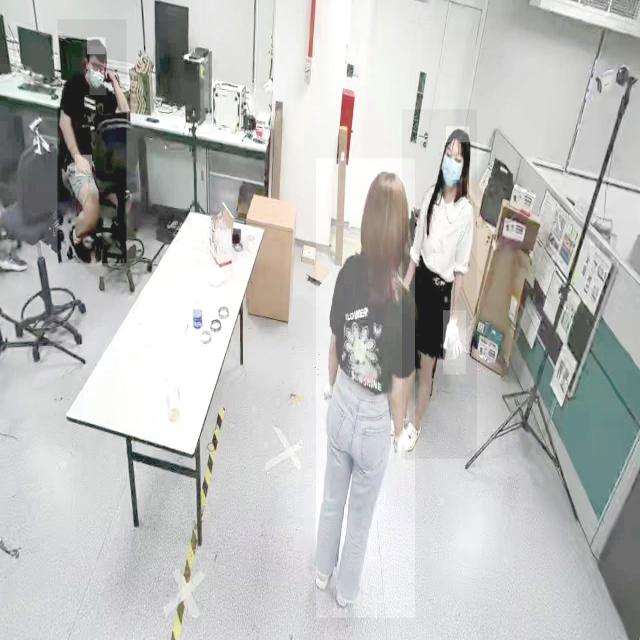face_mask: (442, 141, 462, 202), (89, 46, 107, 96)
hand_glove: (443, 310, 467, 375), (392, 426, 412, 462)
hand_noglove: (75, 155, 93, 177), (104, 68, 115, 82)
head_nohelmet: (364, 170, 406, 201), (446, 126, 470, 143), (87, 37, 106, 55)
person: (316, 158, 416, 619), (402, 110, 478, 460), (57, 20, 127, 264)
shoes: (335, 566, 359, 609), (313, 550, 334, 590)
